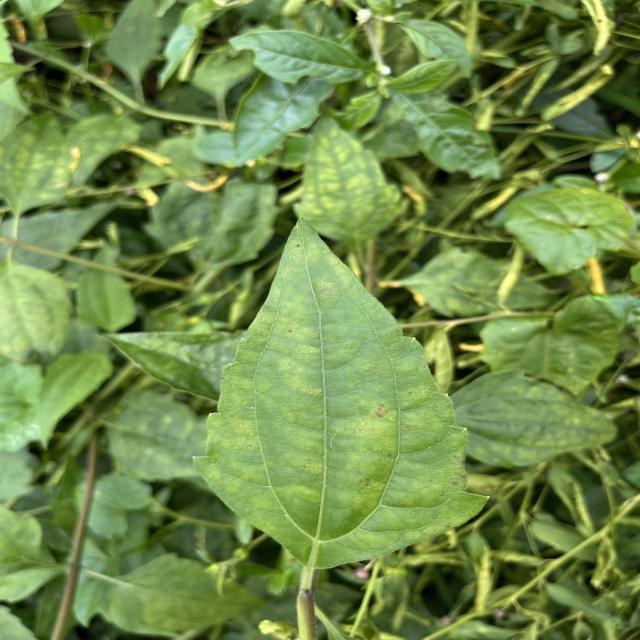Chromolaena odorata: (185, 208, 498, 574)
